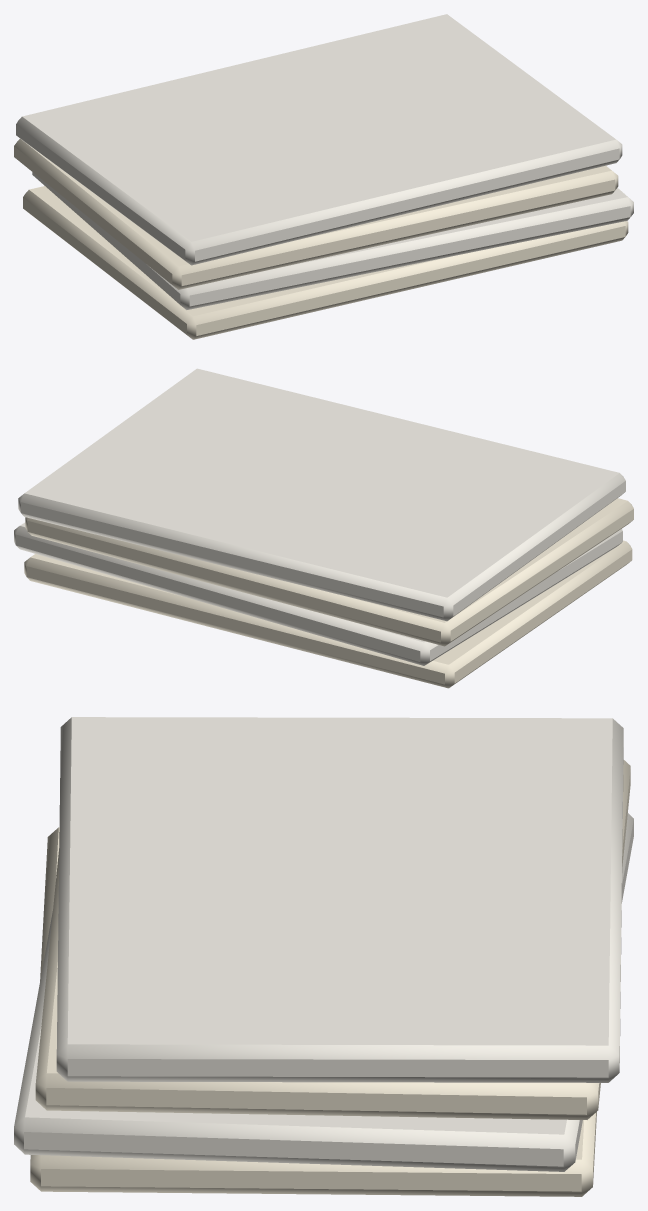
The model's file is paper_stack_small.glb.
The picture shows the model from 3 angles, top to bottom: view 1: azimuth 30°, elevation 25°; view 2: azimuth 150°, elevation 25°; view 3: azimuth 270°, elevation 25°; orthographic projection. The views are drawn at different scales.
Visible parts, largest first — view 1: sheet, paper; view 2: sheet, paper; view 3: sheet, paper.
Part boxes in pixels (x1,y1,x2,y2): sheet: [16, 14, 633, 309]; paper: [14, 139, 628, 339]; sheet: [14, 368, 625, 665]; paper: [24, 498, 633, 688]; sheet: [14, 717, 633, 1171]; paper: [30, 760, 630, 1196].
Size of the model in its own units: 0.3105 by 0.06 by 0.2258.
